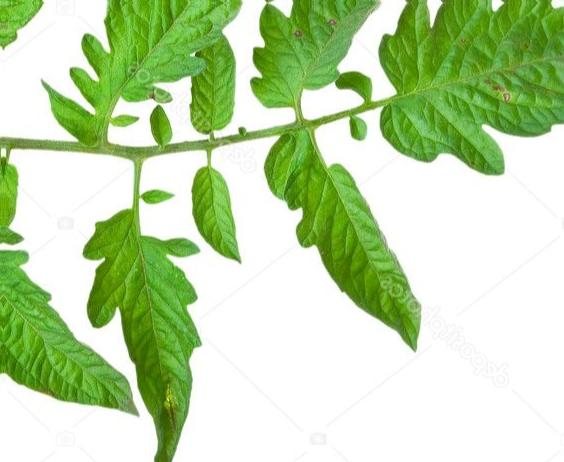Tomato leaf: (366, 0, 564, 179), (280, 136, 436, 349), (48, 0, 275, 140), (0, 196, 130, 417), (92, 197, 192, 462), (238, 0, 413, 123), (0, 0, 108, 116)
